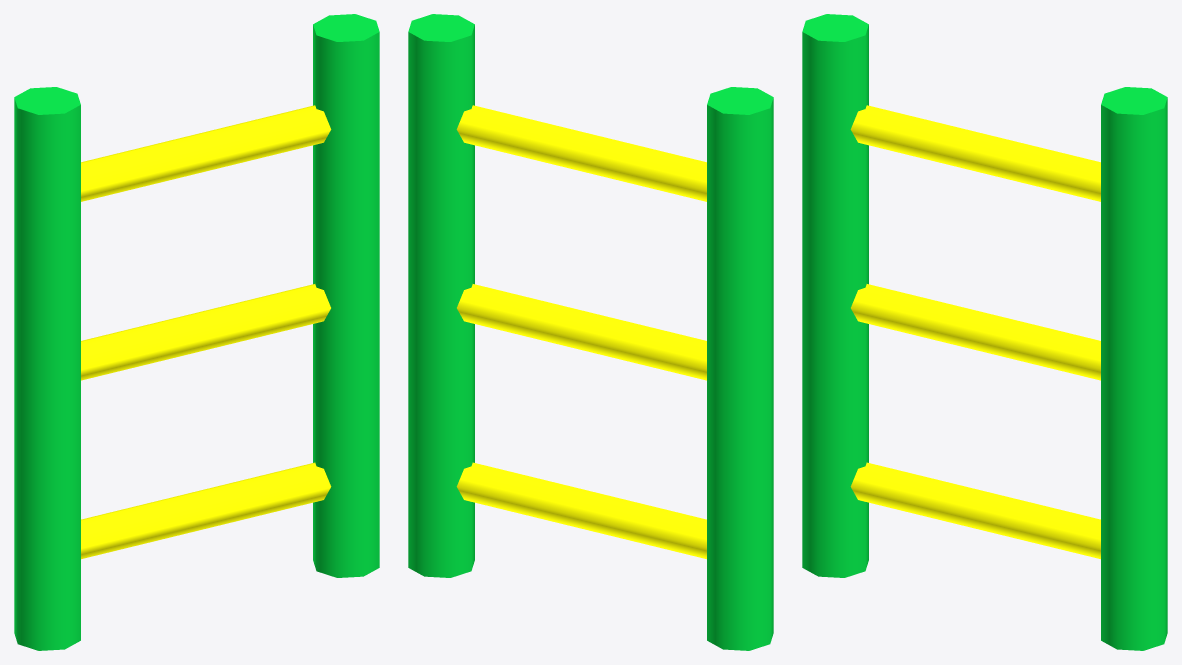
Rendered from Ladder_02.glb.
3 renders of one model, left to right at view 1: azimuth 30°, elevation 25°; view 2: azimuth 150°, elevation 25°; view 3: azimuth 330°, elevation 25°, orthographic.
Parts seen in each view (by area): view 1: Ladder_02; view 2: Ladder_02; view 3: Ladder_02.
Part boxes in pixels (x1=…): Ladder_02: x1=14, y1=14, x2=379, y2=650; Ladder_02: x1=408, y1=14, x2=773, y2=650; Ladder_02: x1=802, y1=14, x2=1167, y2=650.
Bounding box in the file's own units: 1.2 × 1.71 × 0.2.
Materials: 1 (1 with a texture image).
